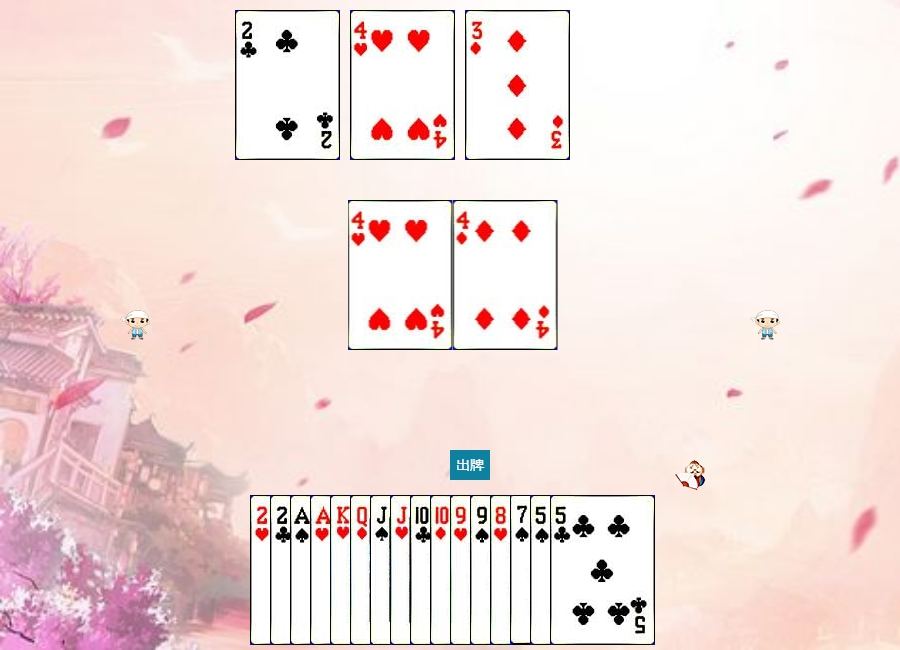10~1: (430, 495, 535, 645)
10~2: (410, 495, 515, 645)
11~3: (390, 495, 495, 645)
11~4: (370, 495, 475, 645)
12~1: (350, 495, 455, 645)
13~3: (330, 495, 435, 645)
14~3: (310, 495, 415, 645)
14~4: (290, 495, 395, 645)
15~2: (235, 10, 340, 160), (270, 495, 375, 645)
15~3: (250, 495, 355, 645)
3~1: (465, 10, 570, 160)
4~1: (453, 200, 558, 350)
4~3: (350, 10, 455, 160), (348, 200, 453, 350)
5~2: (550, 495, 655, 645)
5~4: (530, 495, 635, 645)
7~4: (510, 495, 615, 645)
8~3: (490, 495, 595, 645)
9~3: (450, 495, 555, 645)
9~4: (470, 495, 575, 645)
